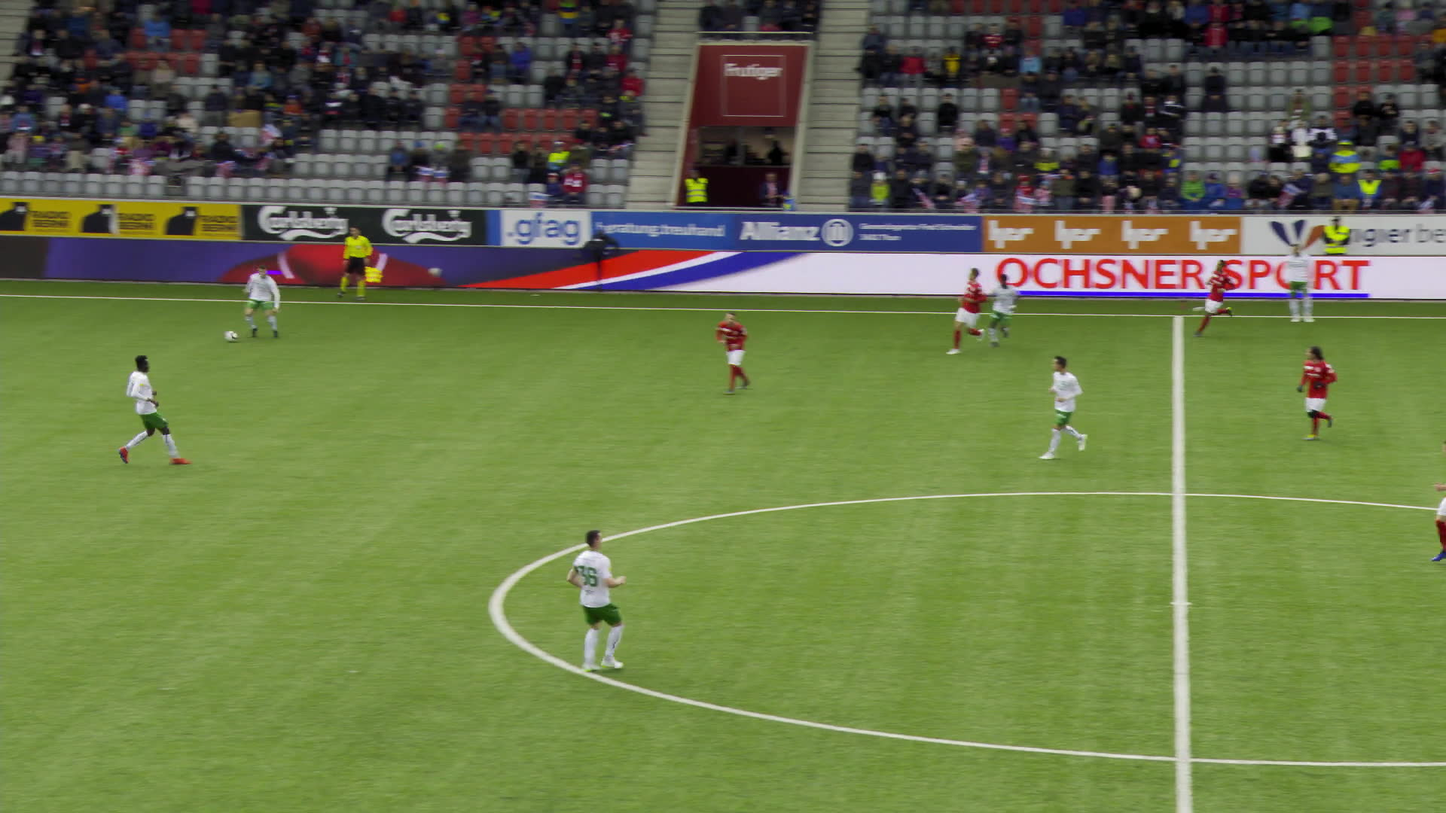ball: (220, 327, 236, 340)
player: (559, 525, 629, 672), (119, 353, 175, 466), (1036, 355, 1081, 458), (1289, 342, 1332, 439), (936, 264, 981, 353), (230, 263, 279, 339), (1184, 258, 1230, 337), (706, 306, 741, 394), (978, 269, 1011, 346), (1274, 242, 1303, 323), (1423, 473, 1445, 562)
referee: (330, 223, 374, 303)
